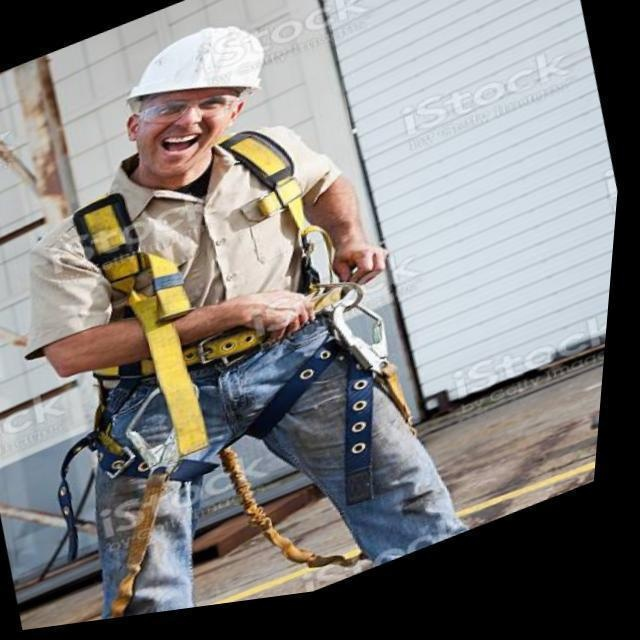Arnes_seguridad: (66, 143, 357, 468)
